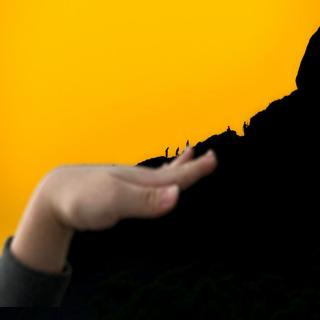Wait: (20, 143, 221, 235)
